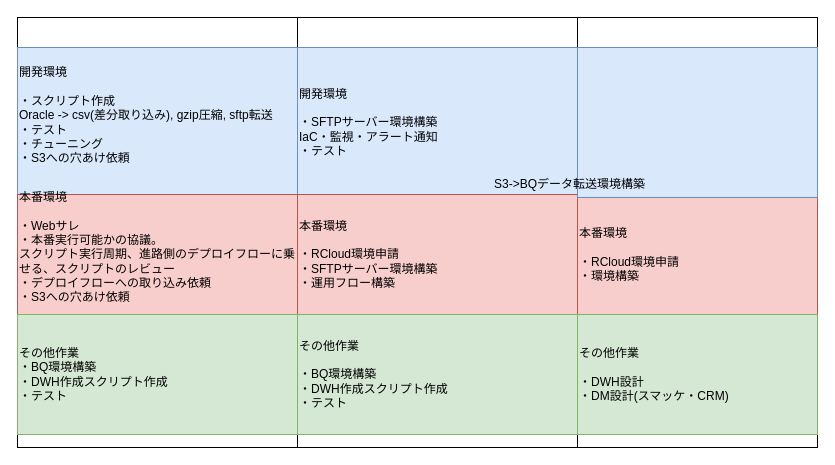
Image size: 835x465. Some labels were removed from this diagram. Here are the shapes that lost their labels. From the top down, the box of each, then its label:
(576, 46, 818, 198): 開発環境 ・BQ環境構築 ・DWHクエリ作成 ・DMクエリ作成 Cloud Dataprep, BQ 名寄せ、テーブル結合・分割 ・テスト
(16, 16, 298, 448): Raftel
(296, 16, 578, 448): Rcloud(AWS)
(576, 16, 818, 448): RCloud(GCP)
